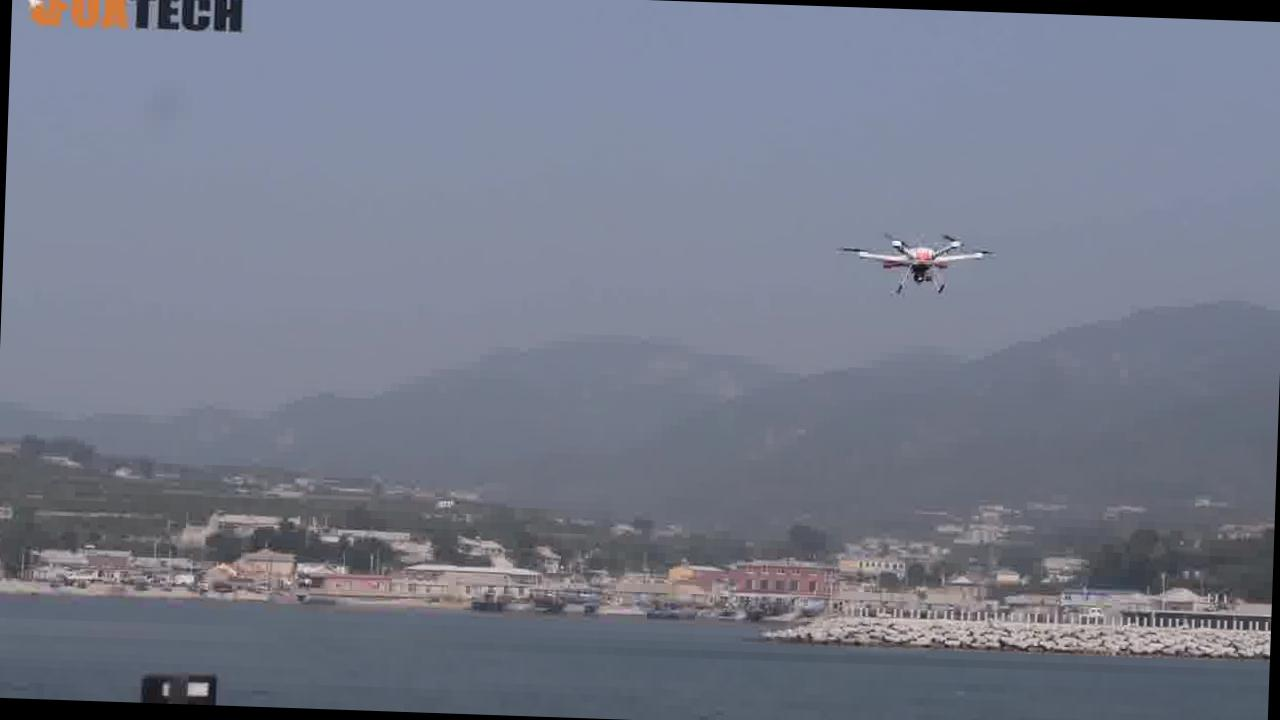drone: (840, 220, 1000, 314)
